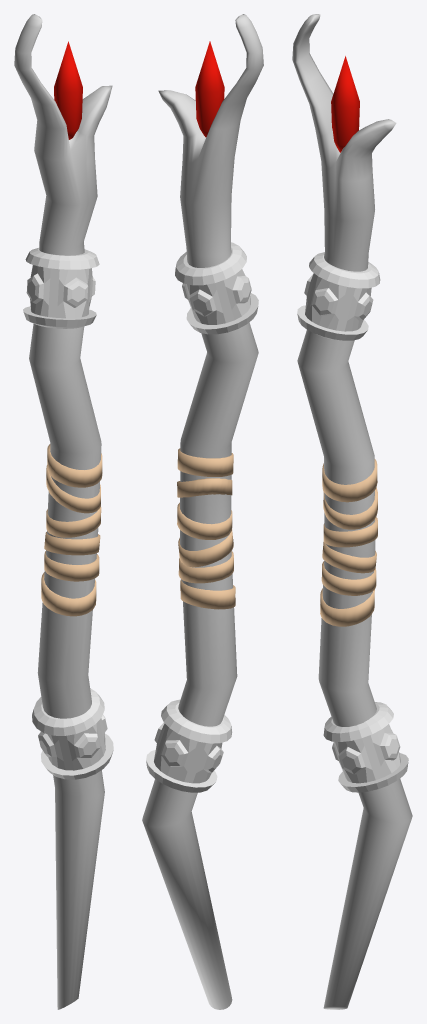
The model's file is BaseStartingStaff.fbx.
3 renders of one model, left to right at view 1: azimuth 30°, elevation 25°; view 2: azimuth 150°, elevation 25°; view 3: azimuth 330°, elevation 25°, orthographic.
Visible parts, largest first — view 1: BaseStaff; view 2: BaseStaff; view 3: BaseStaff.
Part boxes in pixels (left/top/right/bottom): BaseStaff: left=14, top=14, right=113, bottom=1009; BaseStaff: left=142, top=14, right=263, bottom=1009; BaseStaff: left=292, top=14, right=412, bottom=1009.
Size of the model in its own units: 16.3 by 153 by 13.5.
